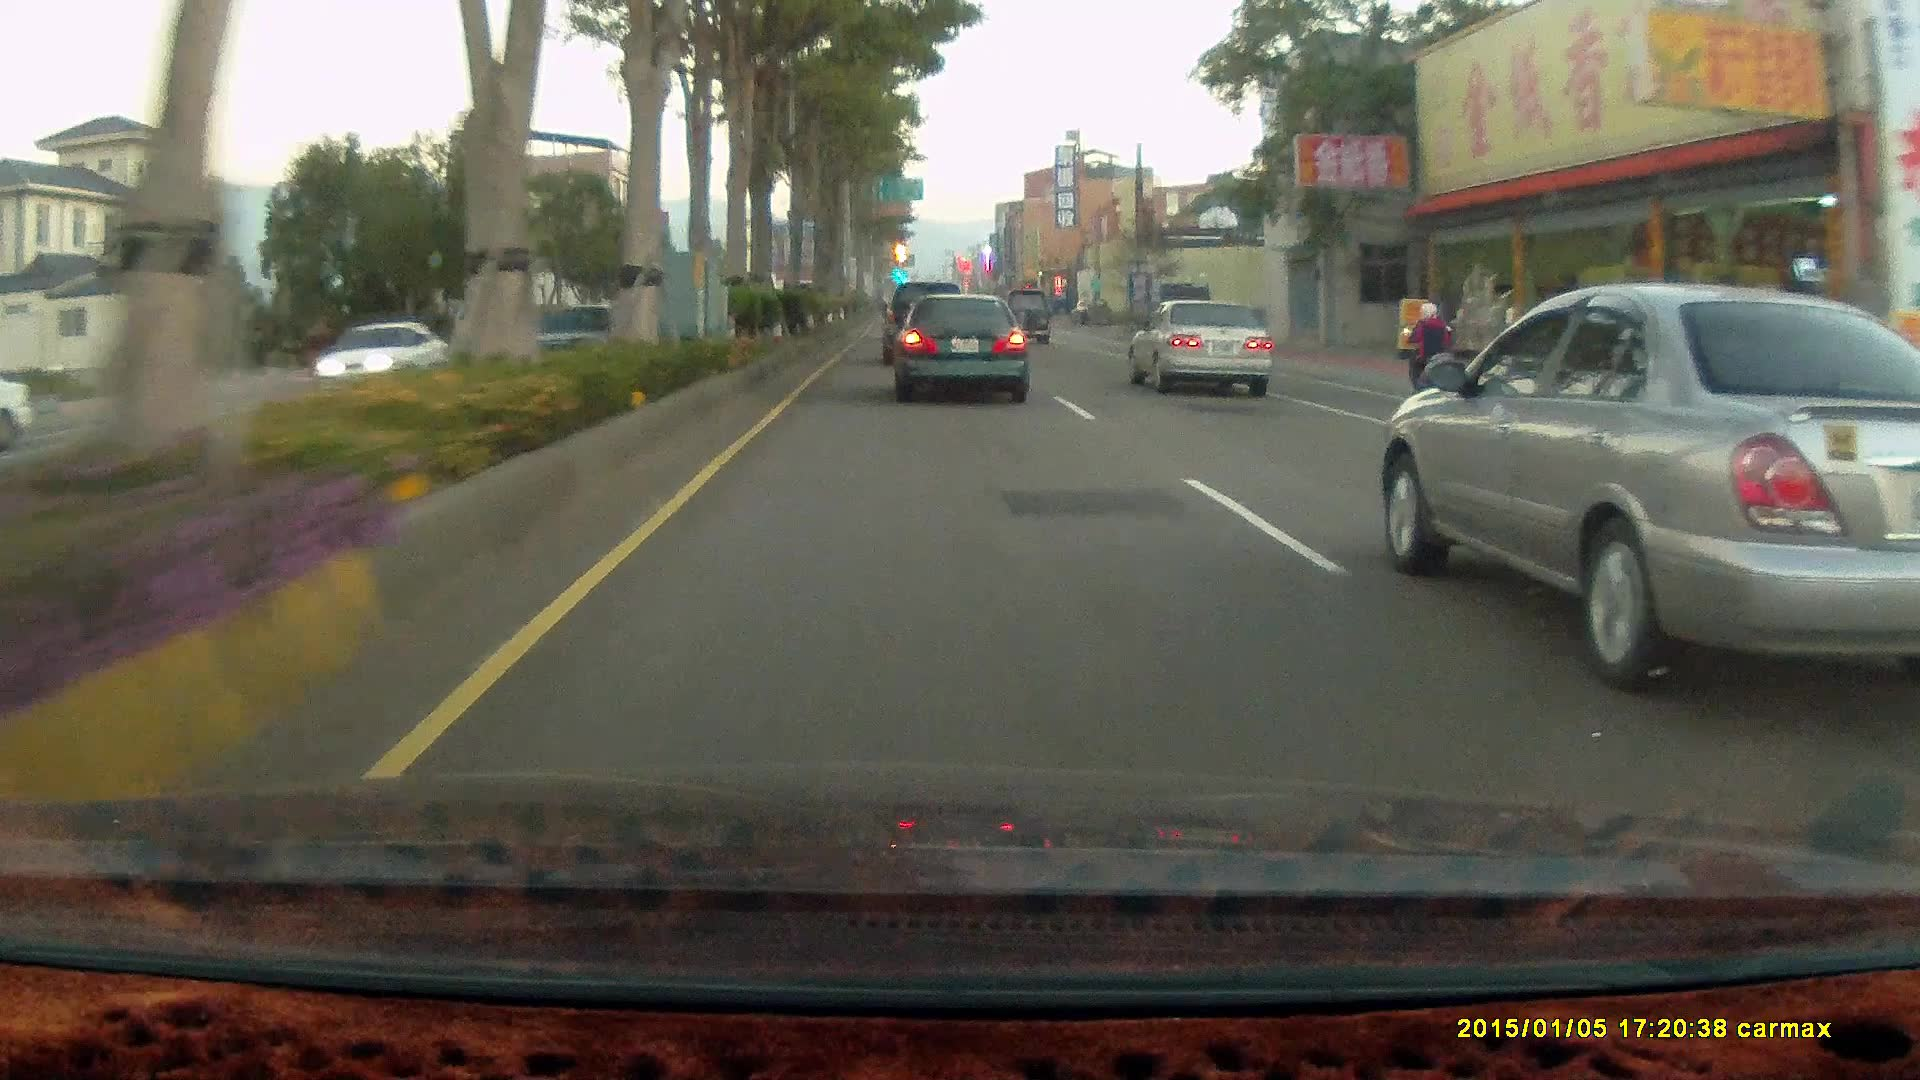rider: (1393, 293, 1464, 415), (1398, 297, 1459, 407)
vehicle: (1371, 289, 1920, 701), (892, 291, 1034, 410), (887, 290, 1027, 402), (1128, 300, 1279, 404), (1125, 296, 1270, 395), (310, 319, 448, 396), (311, 322, 451, 390), (883, 280, 973, 365), (881, 281, 963, 362), (530, 305, 640, 364), (1146, 281, 1211, 342), (1002, 285, 1051, 344), (1, 370, 33, 456)
